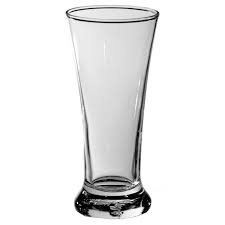glass: (64, 2, 163, 222)
